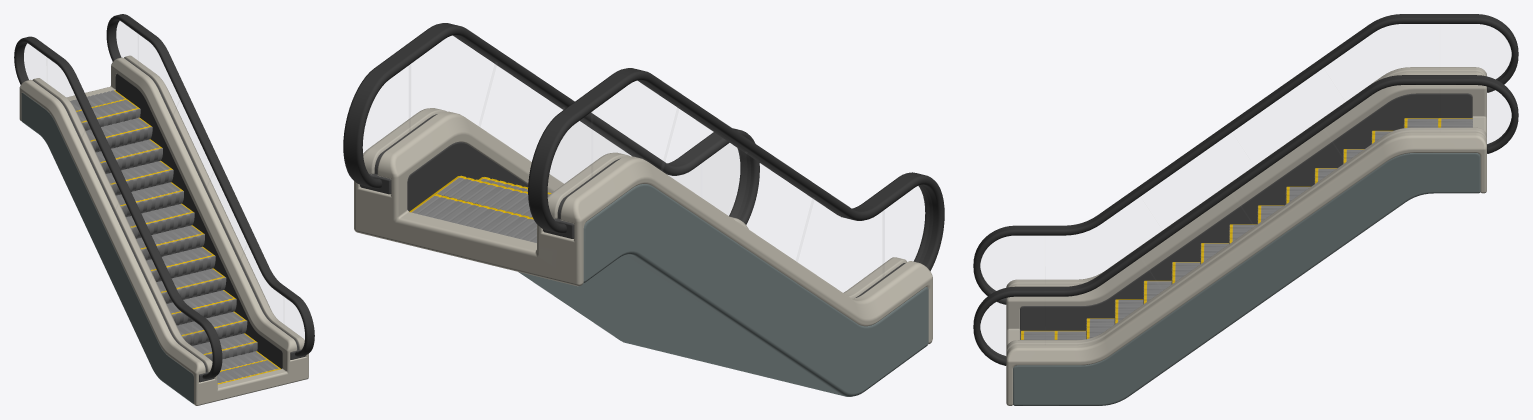
File: brigfe.glb
The picture shows the model from 3 angles, left to right: view 1: azimuth 30°, elevation 25°; view 2: azimuth 150°, elevation 25°; view 3: azimuth 270°, elevation 25°; orthographic projection. The views are drawn at different scales.
Visible parts, largest first — view 1: icon_escalator_base_stylized_01_lod0; view 2: icon_escalator_base_stylized_01_lod0, icon_escalator_base_stylized_02_lod0; view 3: icon_escalator_base_stylized_01_lod0.
Boxes of the visible parts, x1,y1,x2,y2 form: icon_escalator_base_stylized_01_lod0: (14, 14, 314, 405); icon_escalator_base_stylized_01_lod0: (343, 23, 944, 396); icon_escalator_base_stylized_02_lod0: (409, 62, 884, 277); icon_escalator_base_stylized_01_lod0: (973, 14, 1518, 405).
Size of the model in its own units: 0.0876 by 0.1752 by 0.268.
2 materials, 2 textured.
